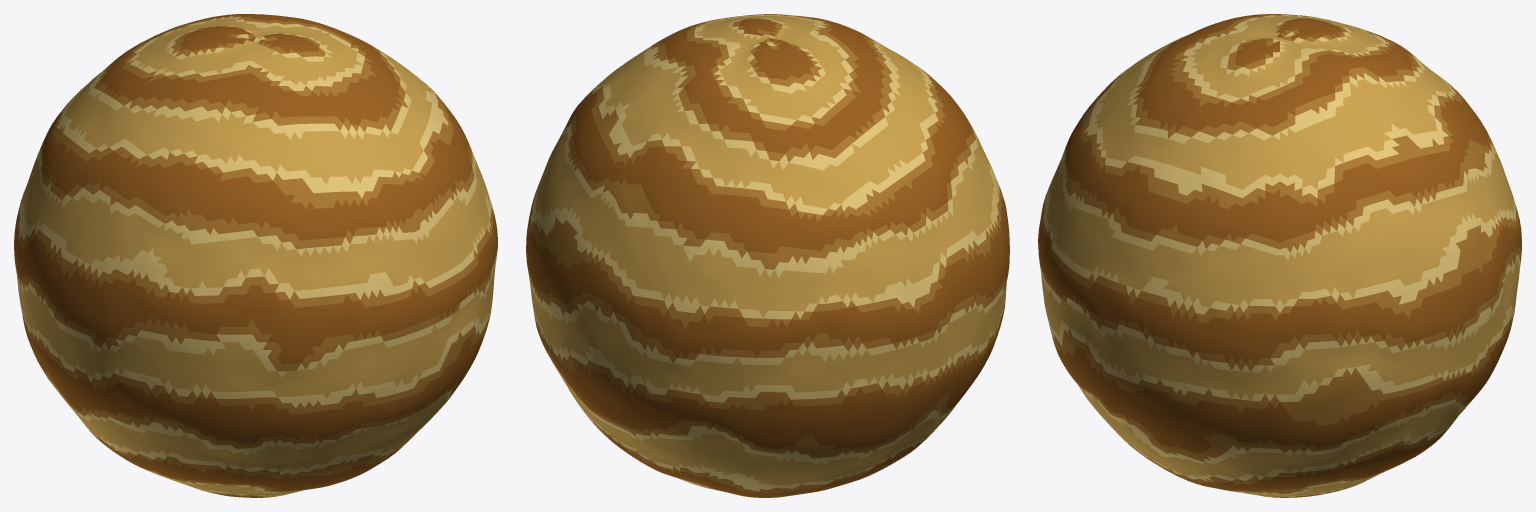
Rendered from CELESTIAL_06_Venus.obj.
3 renders of one model, left to right at view 1: azimuth 30°, elevation 25°; view 2: azimuth 150°, elevation 25°; view 3: azimuth 270°, elevation 25°, orthographic.
Visible parts, largest first — view 1: CELESTIAL_06_Venus_Venus; view 2: CELESTIAL_06_Venus_Venus; view 3: CELESTIAL_06_Venus_Venus.
Boxes of the visible parts, x1,y1,x2,y2 form: CELESTIAL_06_Venus_Venus: [14, 14, 497, 497]; CELESTIAL_06_Venus_Venus: [526, 14, 1009, 497]; CELESTIAL_06_Venus_Venus: [1038, 14, 1521, 497].
Size of the model in its own units: 2 by 2 by 2.01.
